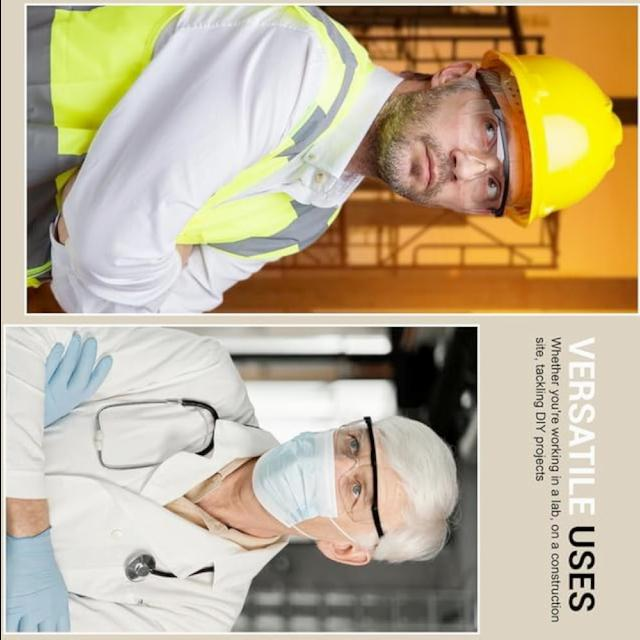Gloves: (27, 331, 119, 445), (6, 523, 77, 640)
Hard Hat: (470, 48, 624, 237)
Reflective Vest: (41, 6, 387, 284), (8, 318, 260, 630)
Safety Glasses: (463, 59, 511, 222), (335, 414, 383, 552)
